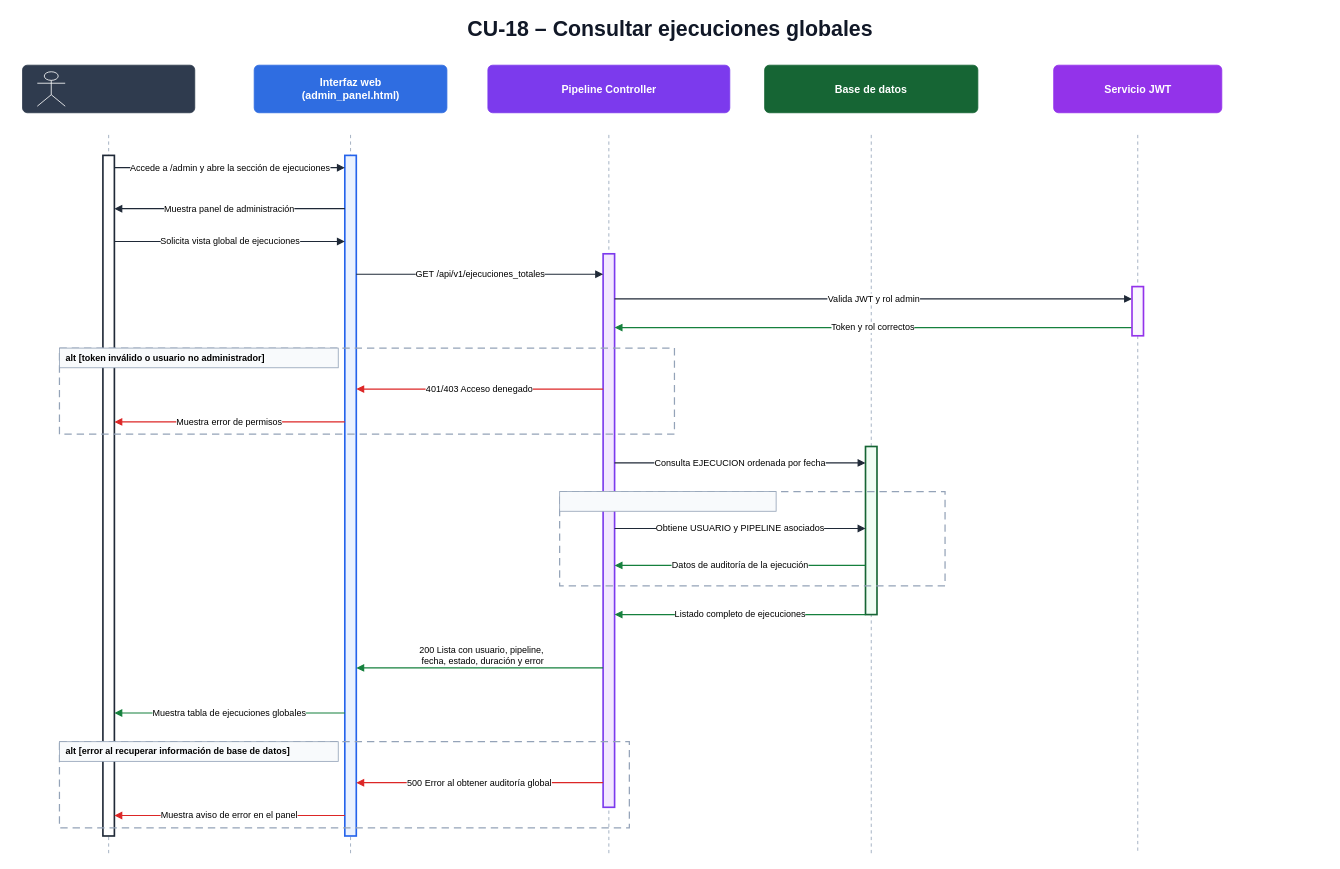
This 1340x869 diagram has some shape labels left out. Here are the shapes that lost their labels. From the top down, the box of each, then its label:
(22, 64, 195, 113): Administrador
(559, 491, 776, 511): loop [por cada ejecución recuperada]
